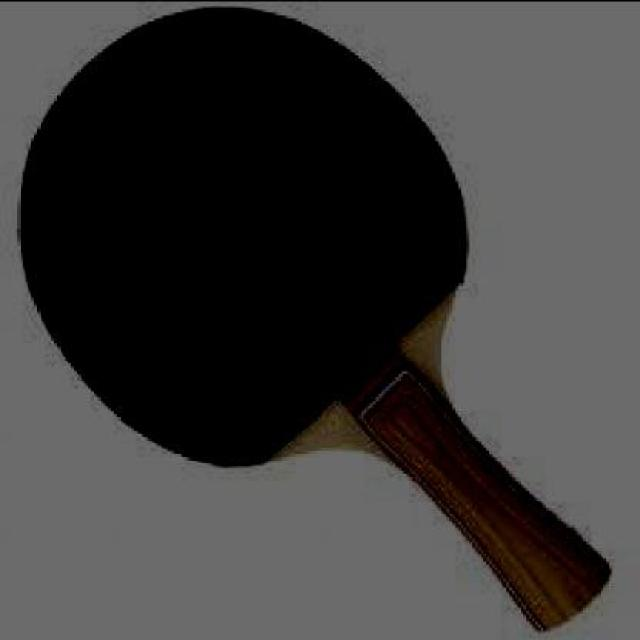table_tennis_racket: (15, 7, 473, 464)
